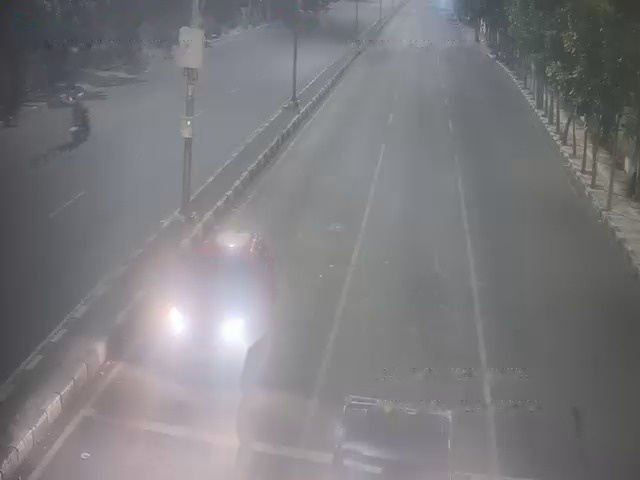Mobil: (167, 231, 264, 355)
